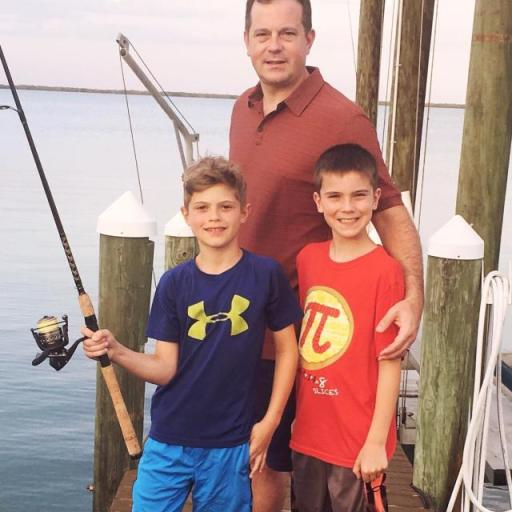Under Armour: (184, 292, 252, 342)
